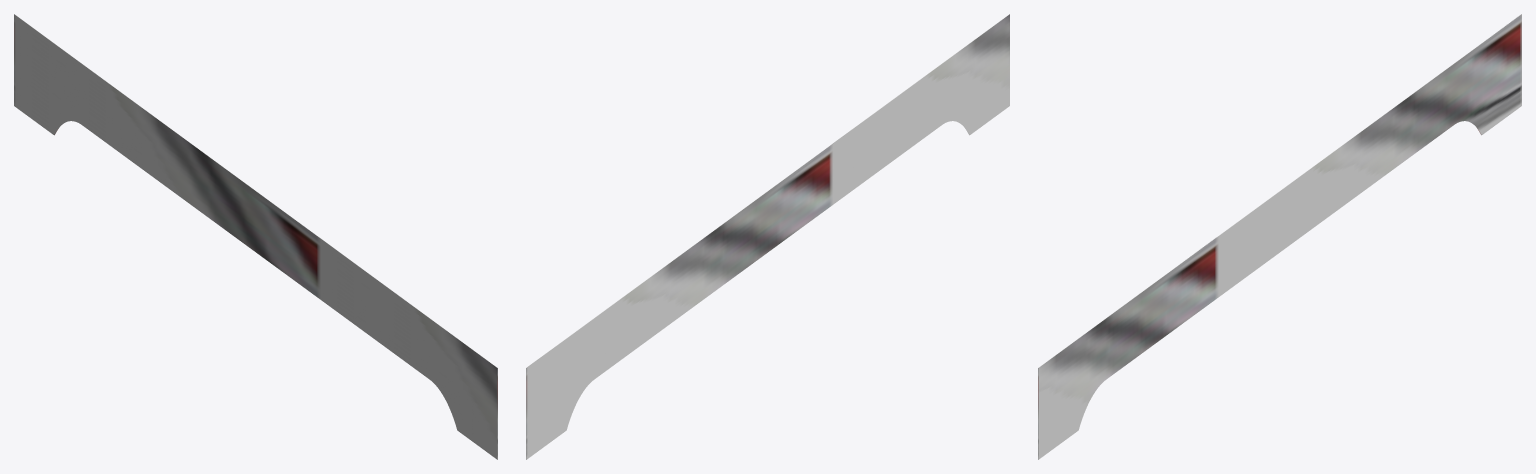
Rendered from original-49.obj.
The picture shows the model from 3 angles, left to right: view 1: azimuth 30°, elevation 25°; view 2: azimuth 150°, elevation 25°; view 3: azimuth 330°, elevation 25°; orthographic projection.
Visible parts, largest first — view 1: Component_10_1/Component_10/mesh4/mesh4-geometry#mesh4-geometry; view 2: Component_10_1/Component_10/mesh4/mesh4-geometry#mesh4-geometry; view 3: Component_10_1/Component_10/mesh4/mesh4-geometry#mesh4-geometry.
Boxes of the visible parts, x1=… form: Component_10_1/Component_10/mesh4/mesh4-geometry#mesh4-geometry: x1=14, y1=14, x2=497, y2=459; Component_10_1/Component_10/mesh4/mesh4-geometry#mesh4-geometry: x1=526, y1=14, x2=1009, y2=459; Component_10_1/Component_10/mesh4/mesh4-geometry#mesh4-geometry: x1=1038, y1=14, x2=1521, y2=459.
Bounding box in the file's own units: 0.000219 × 0.0508 × 0.4841.
